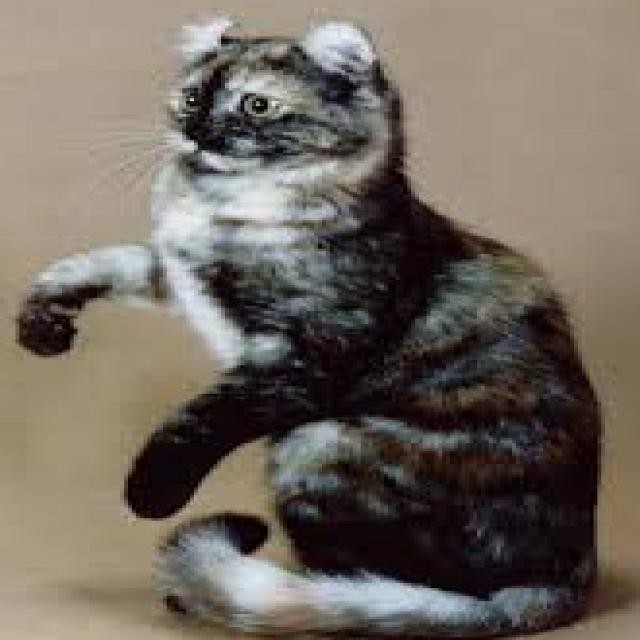American Curl: (4, 5, 609, 640)
